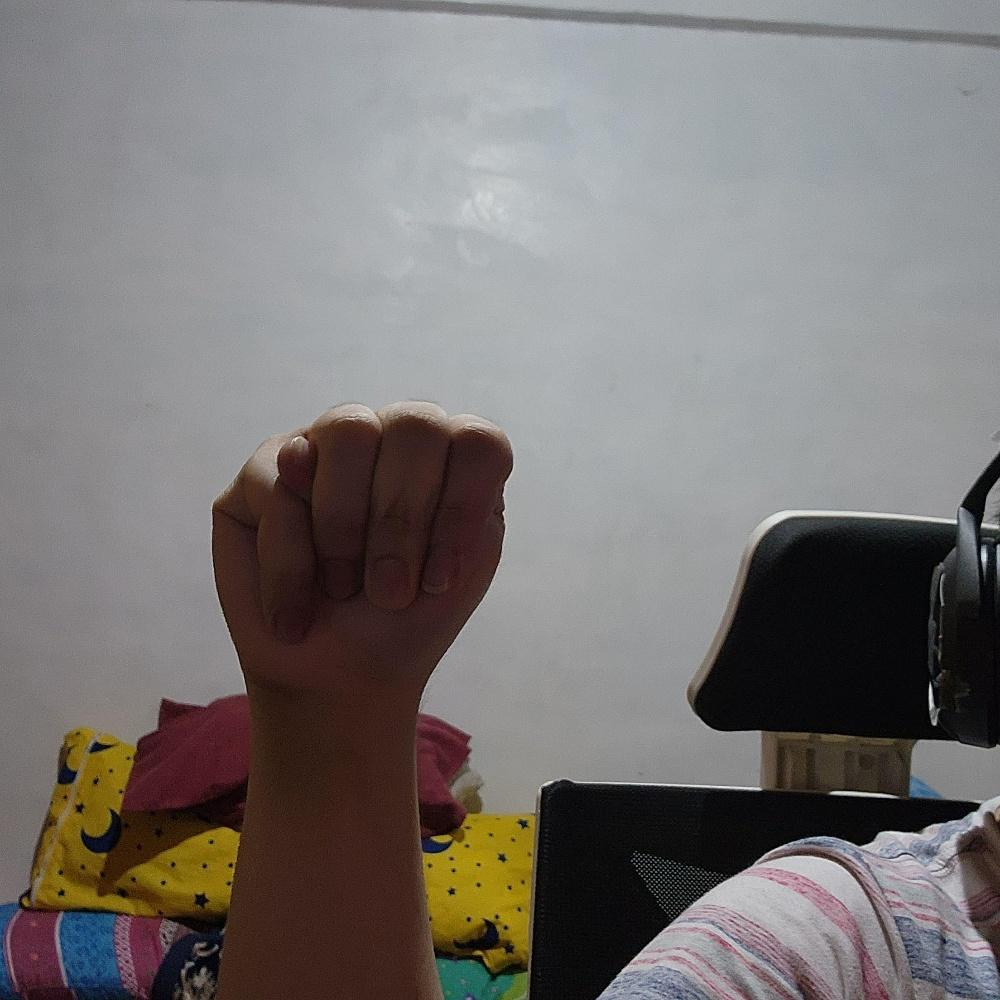m: (209, 399, 514, 695)
